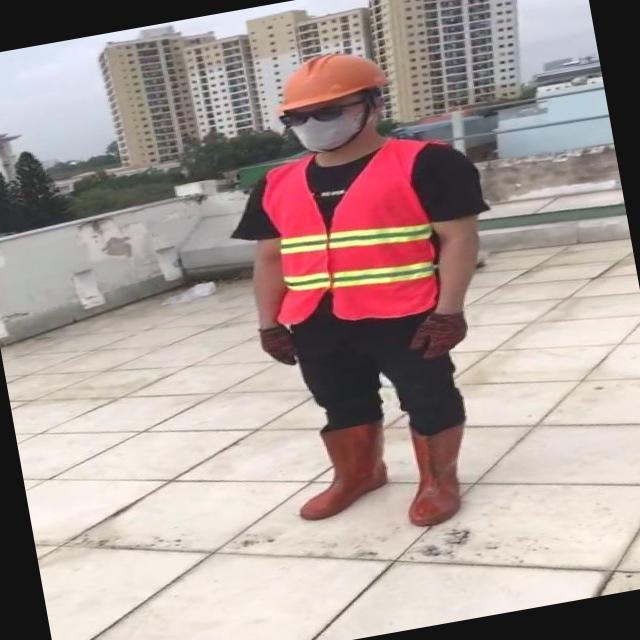boots: (288, 419, 396, 523), (394, 420, 483, 530)
gloves: (396, 293, 472, 370), (248, 310, 314, 373)
helmet: (261, 40, 391, 116)
vest: (252, 135, 456, 336)
